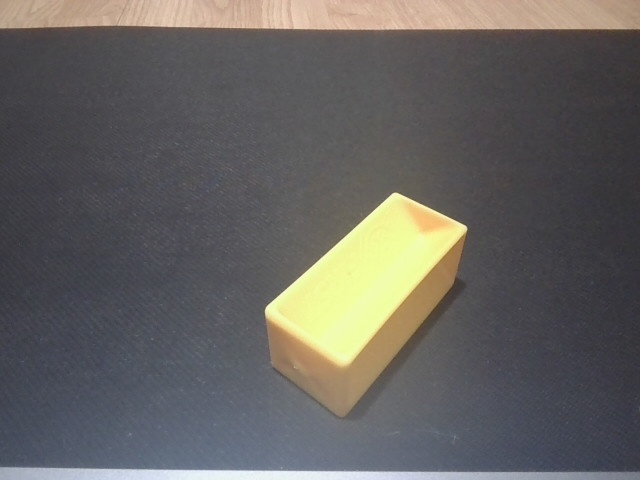YellowSample: (257, 189, 476, 420)
